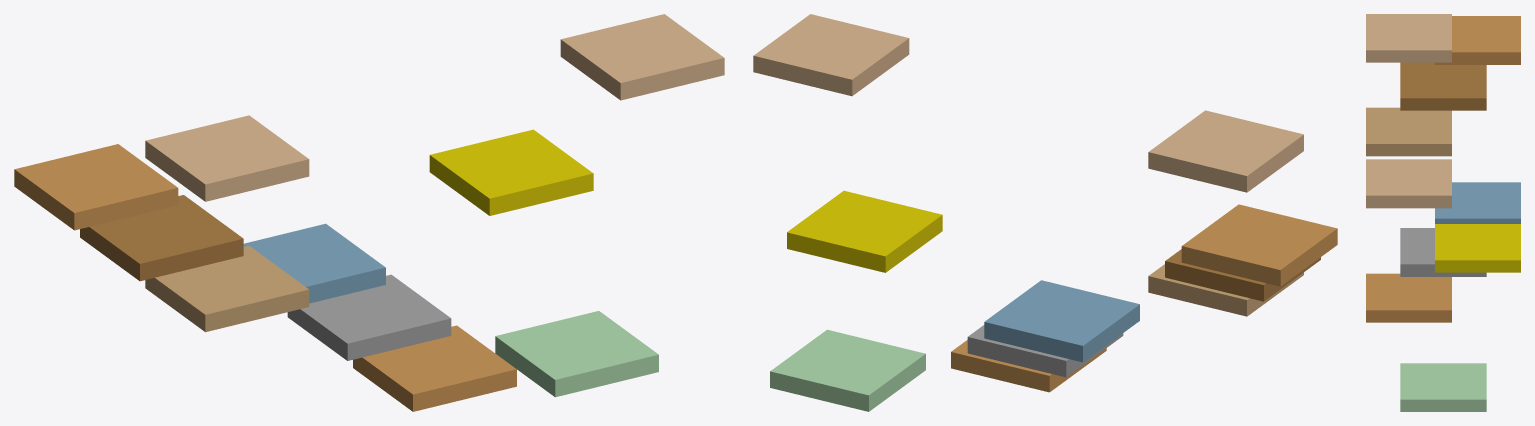
Rendered from stratigraphy_test.gltf.
3 views of the same model, side by side, from view 1: azimuth 30°, elevation 25°; view 2: azimuth 150°, elevation 25°; view 3: azimuth 270°, elevation 25° (orthographic). The views are drawn at different scales.
Visible parts, largest first — view 1: US_Collection; view 2: US_Collection; view 3: US_Collection.
Part boxes in pixels (x1=…): US_Collection: x1=14, y1=14, x2=724, y2=411; US_Collection: x1=753, y1=14, x2=1337, y2=411; US_Collection: x1=1366, y1=14, x2=1520, y2=411.
Size of the model in its own units: 14.5 by 7.4 by 4.5.
